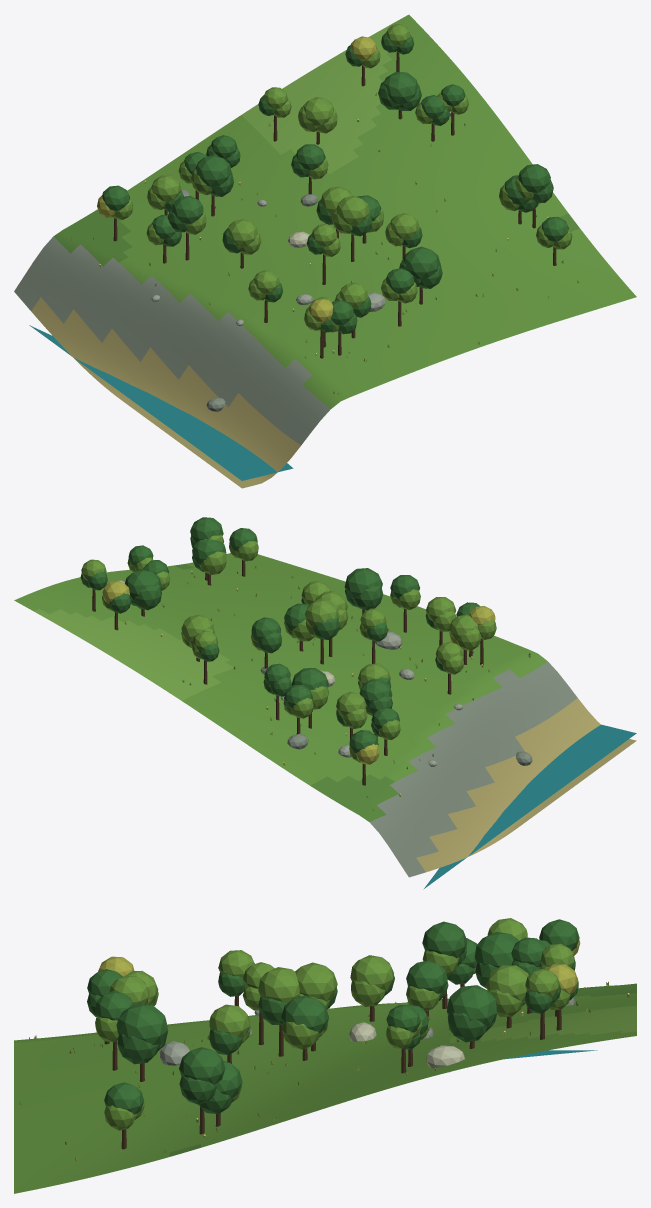
The model's file is Chunk_X1_Y0_Z1.fbx.
3 views of the same model, one above another, from view 1: azimuth 30°, elevation 25°; view 2: azimuth 150°, elevation 25°; view 3: azimuth 270°, elevation 25° (orthographic). The views are drawn at different scales.
Parts seen in each view (by area): view 1: Terrain.032, Canopies.031, Water.008, Trunks.031, Rocks.032; view 2: Terrain.032, Canopies.031, Water.008, Trunks.031, Rocks.032; view 3: Terrain.032, Canopies.031, Trunks.031, Rocks.032, GroundCover.032.
Boxes of the visible parts, x1,y1,x2,y2 form: Terrain.032: (14,14,636,488); Canopies.031: (97,24,572,334); Water.008: (29,325,293,480); Trunks.031: (113,51,556,358); Rocks.032: (151,111,454,411); Terrain.032: (14,553,636,877); Canopies.031: (80,517,496,764); Water.008: (423,724,636,889); Trunks.031: (92,560,483,785); Rocks.032: (118,580,532,766); Terrain.032: (14,983,636,1193); Canopies.031: (87,918,580,1130); Trunks.031: (104,983,561,1149); Rocks.032: (160,997,575,1072); GroundCover.032: (19,981,629,1161).
Bounding box in the file's own units: 100 × 57.22 × 100.
